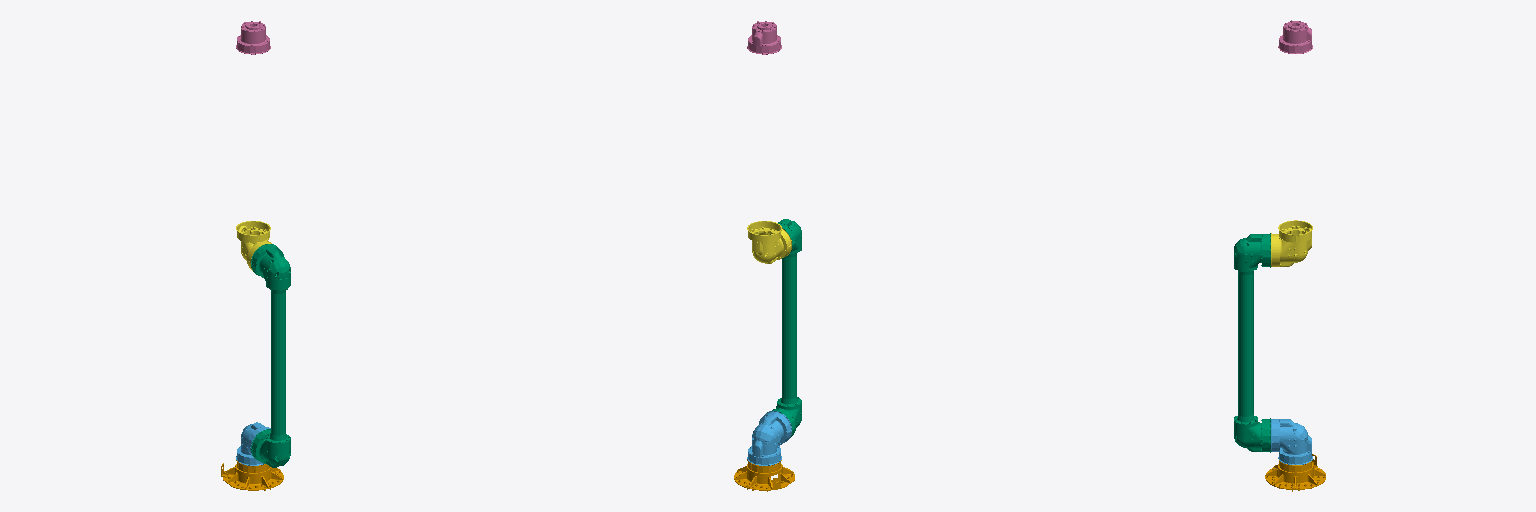
URDF robot description (VISPA):
<robot name="VISPA">

  <link name="Link_0">
    <visual>
      <geometry>
        <mesh filename="package://vispa/meshes/Link0-DHReference-PublicRelease.stl"/>
      </geometry>
    </visual>
    <inertial>
      <mass value="0.627"/>
      <inertia ixx="0.00281845585208" ixy="0" ixz="0" iyy="0.00281883333333" iyz="0" izz="0.00379978918542"/>
      <origin xyz="0 0 0.0"/>
    </inertial>
  </link>

  <link name="Link_1">
    <visual>
      <geometry>
        <mesh filename="package://vispa/meshes/Link1-DHReference-PublicRelease.stl"/>
      </geometry>
    </visual>
    <inertial>
      <mass value="2.328"/>
      <inertia ixx="0.012" ixy="0" ixz="0" iyy="0.007" iyz="0.003" izz="0.008"/>
      <origin xyz="0 -0.029 -0.043"/>
    </inertial>
  </link>

  <link name="Link_2">
    <visual>
      <geometry>
        <mesh filename="package://vispa/meshes/Link2-DHReference-PublicRelease.stl"/>
      </geometry>
    </visual>
    <inertial>
      <mass value="3.995"/>
      <inertia ixx="0.010 " ixy="0" ixz="0" iyy="0.578" iyz="0" izz="0.574"/>
      <origin xyz="0.4 0 0.142"/>
    </inertial>
  </link>

  <link name="Link_3">
    <visual>
      <geometry>
        <mesh filename="package://vispa/meshes/Link3-DHReference-PublicRelease.stl"/>
      </geometry>
    </visual>
    <inertial>
      <mass value="2.328"/>
      <inertia ixx="0.012" ixy="0" ixz="0" iyy="0.008" iyz="0.003" izz="0.007"/>
      <origin xyz="0 0.043 0.029"/>
    </inertial>
  </link>

  <link name="Link_4">
    <visual>
      <geometry>
        <mesh filename="package://vispa/meshes/Link4-DHReference-PublicRelease.stl"/>
      </geometry>
    </visual>
    <inertial>
      <mass value="3.157"/>
      <inertia ixx="0.199" ixy="0" ixz="0" iyy="0.193" iyz="0.01" izz="0.01"/>
      <origin xyz="0 -0.043 -0.210"/>
    </inertial>
  </link>

  <link name="Link_5">
    <visual>
      <geometry>
        <mesh filename="package://vispa/meshes/Link5-DHReference-PublicRelease.stl"/>
      </geometry>
    </visual>
    <inertial>
      <mass value="2.695"/>
      <inertia ixx="0.029" ixy="0" ixz="0" iyy="0.006" iyz="-0.001" izz="0.027"/>
      <origin xyz="0 0.125 -0.007"/>
    </inertial>
  </link>

  <link name="Link_6">
    <visual>
      <geometry>
        <mesh filename="package://vispa/meshes/Link6-DHReference-PublicRelease.stl"/>
      </geometry>
    </visual>
    <inertial>
      <mass value="0.924"/>
      <inertia ixx="0.002" ixy="0" ixz="0" iyy="0.002" iyz="0" izz="0.001"/>
      <origin xyz="0 0 0.0"/>
    </inertial>
  </link>

  <joint name="Joint_1" type="revolute">
    <parent link="Link_0"/>
    <child link="Link_1"/>
    <axis xyz="0 0 1"/>
    <limit effort="50" lower="-3.14149265359" upper="3.14149265359" velocity="0.09395689"/>
    <origin xyz="0 0 0.18" rpy="0 0 0"/> 
  </joint>

  <joint name="Joint_2" type="revolute">
    <parent link="Link_1"/>
    <child link="Link_2"/>
    <axis xyz="0 0 1"/>
    <limit effort="50" lower="-3.14149265359" upper="3.14149265359" velocity="0.09395689"/>
    <origin xyz="0 0 0" rpy="1.57079632679 -1.57079632679 0"/> 
  </joint>

  <joint name="Joint_3" type="revolute">
    <parent link="Link_2"/>
    <child link="Link_3"/>
    <axis xyz="0 0 1"/>
    <limit effort="50" lower="-3.14149265359" upper="3.14149265359" velocity="0.09395689"/>
    <origin xyz="0.8 0 0" rpy="0 0 -1.57079632679"/> 
  </joint>

  <joint name="Joint_4" type="revolute">
    <parent link="Link_3"/>
    <child link="Link_4"/>
    <axis xyz="0 0 1"/>
    <limit effort="50" lower="-3.14149265359" upper="3.14149265359" velocity="0.09395689"/>
    <origin xyz="0 0.65 0" rpy="-1.57079632679 0 0"/> 
  </joint>

  <joint name="Joint_5" type="revolute">
    <parent link="Link_4"/>
    <child link="Link_5"/>
    <axis xyz="0 0 1"/>
    <limit effort="50" lower="-3.14149265359" upper="3.14149265359" velocity="0.09395689"/>
    <origin xyz="0 0 0" rpy="1.57079632679 0 0"/> 
  </joint>

  <joint name="Joint_6" type="revolute">
    <parent link="Link_5"/>
    <child link="Link_6"/>
    <axis xyz="0 0 1"/>
    <limit effort="50" lower="-3.14149265359" upper="3.14149265359" velocity="0.09395689"/>
    <origin xyz="0 0.325 0" rpy="-1.57079632679 0 0"/> 
  </joint>

</robot>

--- What the picture shows (computed from the rendered views, not written in the file) ---
The picture shows the robot from 3 angles, left to right: view 1: azimuth 30°, elevation 25°; view 2: azimuth 150°, elevation 25°; view 3: azimuth 270°, elevation 25°; orthographic projection.
Model VISPA with 7 links and 6 joints (6 revolute), rooted at Link_0, posed every joint at zero.
Links seen in each view (by area): view 1: Link_2, Link_0, Link_3, Link_6, Link_1; view 2: Link_2, Link_1, Link_3, Link_0, Link_6; view 3: Link_2, Link_3, Link_1, Link_0, Link_6.
Boxes of the visible links, x1,y1,x2,y2 form: Link_2: (251, 244, 290, 467); Link_0: (221, 460, 283, 490); Link_3: (236, 221, 271, 270); Link_6: (236, 21, 270, 54); Link_1: (236, 422, 270, 465); Link_2: (767, 219, 801, 437); Link_1: (747, 411, 791, 465); Link_3: (747, 221, 791, 263); Link_0: (734, 460, 794, 491); Link_6: (747, 21, 781, 54); Link_2: (1234, 233, 1270, 452); Link_3: (1271, 220, 1312, 266); Link_1: (1271, 419, 1312, 464); Link_0: (1265, 454, 1325, 491); Link_6: (1278, 20, 1312, 53).
Bounding box of the posed robot: 0.235 × 0.3635 × 1.96 m (x, y, z).
Meshes: 7 distinct files referenced, 5 mesh visuals loaded (5 binary STL); not drawn: 2 (reference not matched to a file when rendering).
